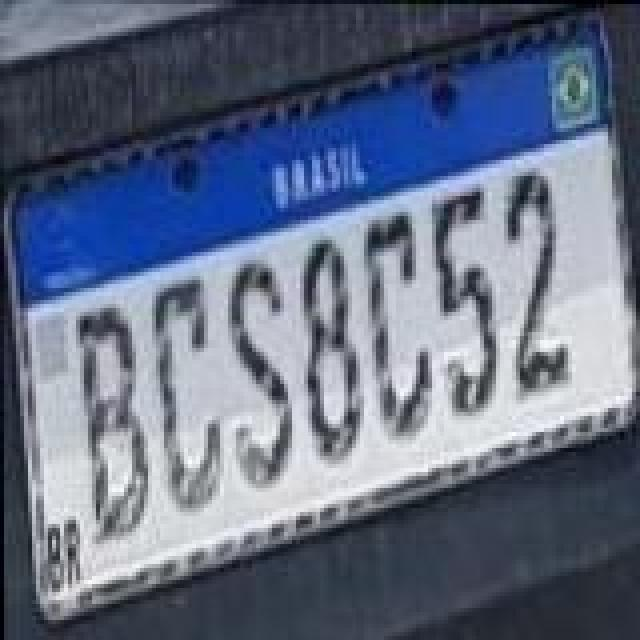2: (506, 168, 570, 400)
5: (434, 182, 498, 414)
8: (300, 238, 360, 462)
B: (72, 298, 148, 534)
C: (150, 276, 222, 512), (364, 204, 432, 440)
S: (226, 256, 290, 484)
